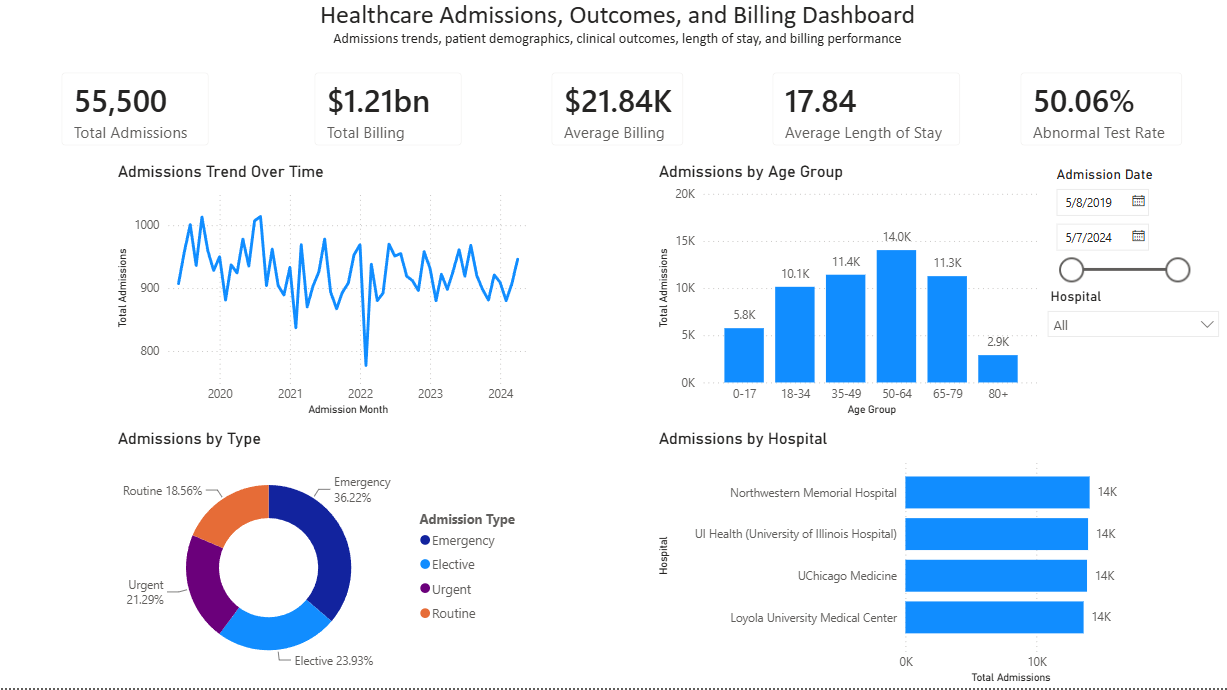

Layout of this report page (visuals, bound fields, positions):
{"tool":"powerbi","page":{"name":"Admissions Overview","canvas":[1280,720],"ordinal":0},"visuals":[{"type":"textbox","box":[10.4,0,1269.6,64.4],"z":0},{"type":"cardVisual","fields":{"Data":["Healthcare.Total Admissions"]},"box":[50.9,64.4,187.9,110],"z":1},{"type":"cardVisual","fields":{"Data":["Healthcare.Total Billing"]},"box":[313.5,64.4,187.9,110],"z":2},{"type":"cardVisual","fields":{"Data":["Healthcare.Average Billing"]},"box":[559.5,64.4,171.3,110],"z":3},{"type":"cardVisual","fields":{"Data":["Healthcare.Average Length of Stay"]},"box":[789,64.4,229.4,110],"z":4},{"type":"cardVisual","fields":{"Data":["Healthcare.Abnormal Test Rate"]},"box":[1046.4,64.4,202.4,110],"z":5},{"type":"lineChart","title":"Admissions Trend Over Time (Complete Months)","fields":{"Y":["Healthcare.Total Admissions"],"Category":["Healthcare.admission_month"]},"box":[121.5,174.4,438.1,267.8],"z":6},{"type":"donutChart","title":"Admissions by Type","fields":{"Category":["Healthcare.admission_type"],"Y":["Healthcare.Total Admissions"]},"box":[121.5,451.6,438.1,268.9],"z":7},{"type":"clusteredBarChart","title":"Admissions by Hospital","fields":{"Category":["Healthcare.hospital"],"Y":["Healthcare.Total Admissions"]},"box":[683.1,451.6,495.2,268.9],"z":8},{"type":"clusteredColumnChart","title":"Admissions by Age Group","fields":{"Category":["Healthcare.Age Group"],"Y":["Healthcare.Total Admissions"]},"box":[683.1,174.4,404.9,267.8],"z":9},{"type":"slicer","fields":{"Values":["Healthcare.admission_date"]},"box":[1087.9,174.4,159.9,161.9],"z":10},{"type":"slicer","fields":{"Values":["Healthcare.hospital"]},"box":[1081.7,301.1,198.3,70.6],"z":11}]}

Visuals, with their boxes in screenshot pixels (x1, y1, x2, y2), scaled from the page's 1280x720 canvas onto the 1227x690 screenshot:
textbox: {"left": 10, "top": 0, "right": 1226, "bottom": 62}
cardVisual - Healthcare.Total Admissions: {"left": 49, "top": 62, "right": 229, "bottom": 167}
cardVisual - Healthcare.Total Billing: {"left": 301, "top": 62, "right": 481, "bottom": 167}
cardVisual - Healthcare.Average Billing: {"left": 536, "top": 62, "right": 701, "bottom": 167}
cardVisual - Healthcare.Average Length of Stay: {"left": 756, "top": 62, "right": 976, "bottom": 167}
cardVisual - Healthcare.Abnormal Test Rate: {"left": 1003, "top": 62, "right": 1197, "bottom": 167}
"Admissions Trend Over Time (Complete Months)" lineChart: {"left": 116, "top": 167, "right": 536, "bottom": 424}
"Admissions by Type" donutChart: {"left": 116, "top": 433, "right": 536, "bottom": 689}
"Admissions by Hospital" clusteredBarChart: {"left": 655, "top": 433, "right": 1130, "bottom": 689}
"Admissions by Age Group" clusteredColumnChart: {"left": 655, "top": 167, "right": 1043, "bottom": 424}
slicer - Healthcare.admission_date: {"left": 1043, "top": 167, "right": 1196, "bottom": 322}
slicer - Healthcare.hospital: {"left": 1037, "top": 289, "right": 1226, "bottom": 356}
